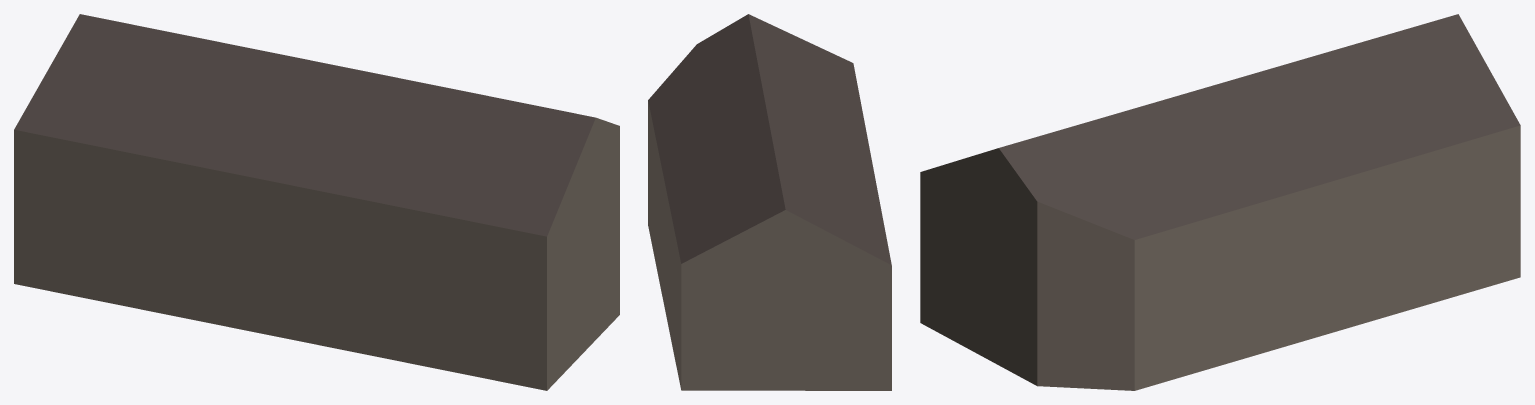
3 renders of one model, left to right at view 1: azimuth 30°, elevation 25°; view 2: azimuth 150°, elevation 25°; view 3: azimuth 270°, elevation 25°, orthographic. The views are drawn at different scales.
Parts seen in each view (by area): view 1: HP-w1512461415; view 2: HP-w1512461415; view 3: HP-w1512461415.
Boxes of the visible parts, x1,y1,x2,y2 form: HP-w1512461415: [14, 14, 619, 390]; HP-w1512461415: [648, 14, 891, 390]; HP-w1512461415: [920, 14, 1520, 390].
Size of the model in its own units: 17.61 by 8.65 by 21.64.
